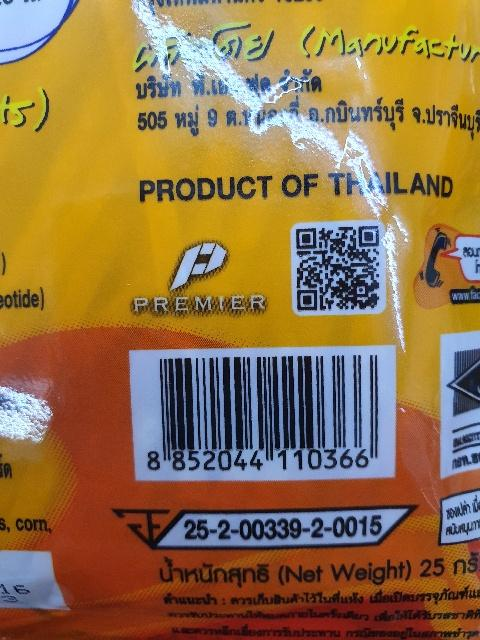Barcode: (130, 346, 393, 477)
